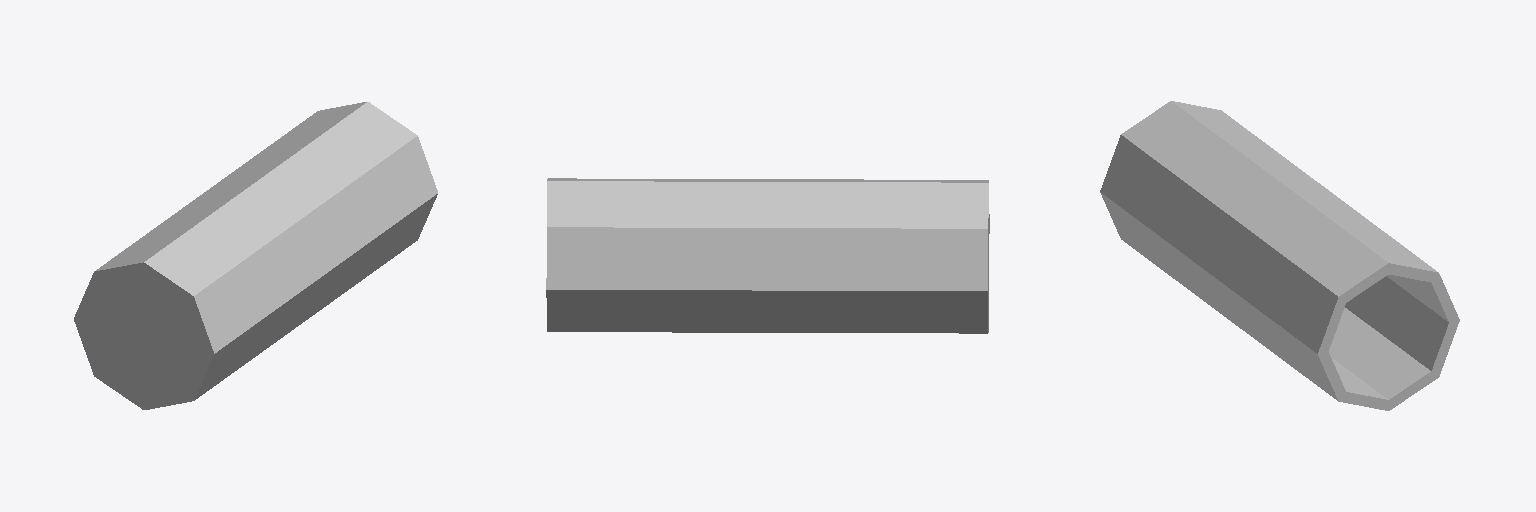
File: planetPortalCollisionTube.obj
3 renders of one model, left to right at view 1: azimuth 30°, elevation 25°; view 2: azimuth 150°, elevation 25°; view 3: azimuth 270°, elevation 25°, orthographic.
Parts seen in each view (by area): view 1: toruscollision_Cylinder; view 2: toruscollision_Cylinder; view 3: toruscollision_Cylinder.
Part boxes in pixels (x1,y1,x2,y2): toruscollision_Cylinder: (74,102,437,409); toruscollision_Cylinder: (546,178,989,333); toruscollision_Cylinder: (1100,101,1459,410).
Size of the model in its own units: 83.34 by 29.31 by 64.52.